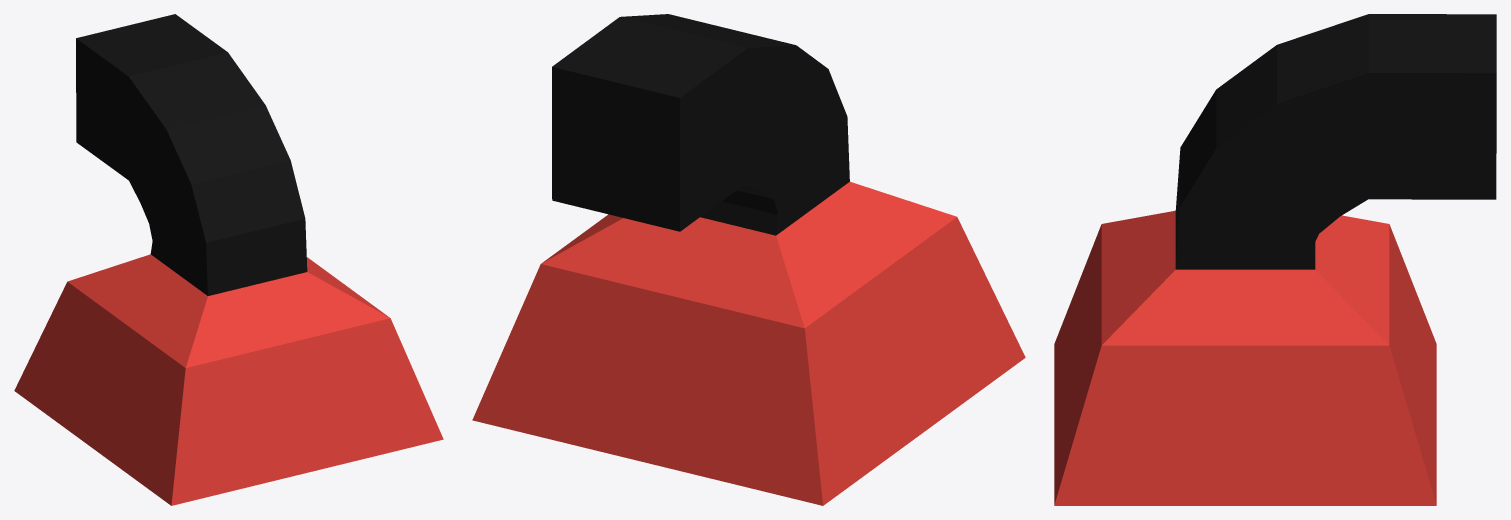
File: Lampara.fbx
The picture shows the model from 3 angles, left to right: view 1: azimuth 30°, elevation 25°; view 2: azimuth 150°, elevation 25°; view 3: azimuth 270°, elevation 25°; orthographic projection. The views are drawn at different scales.
Parts seen in each view (by area): view 1: Cube; view 2: Cube; view 3: Cube.
Boxes of the visible parts, bbox=[...] form: Cube: bbox=[14, 14, 443, 505]; Cube: bbox=[472, 14, 1025, 505]; Cube: bbox=[1054, 14, 1496, 505].
Size of the model in its own units: 266 by 293 by 307.
